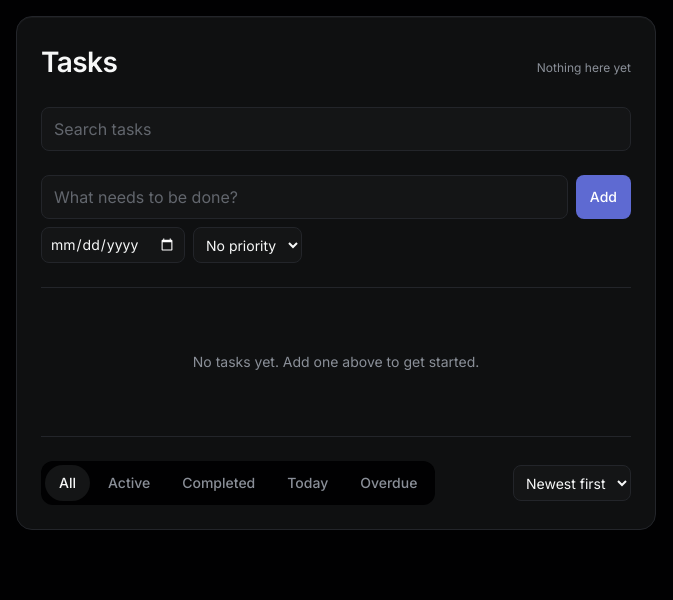
Test: todo app › filters tasks by active and completed
Type "Task A" into the field named "New task". click: (304, 197)
box: [41,175,568,219]
Click the button "Add". click: (603, 197)
box: [576,175,631,219]
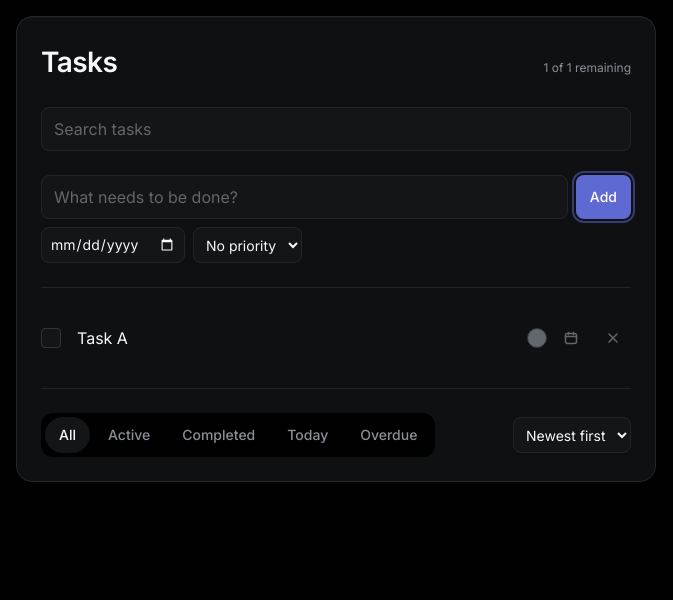
Type "Task B" into the field named "New task". click: (304, 197)
box: [41,175,568,219]
Click the button "Add". click: (603, 197)
box: [576,175,631,219]
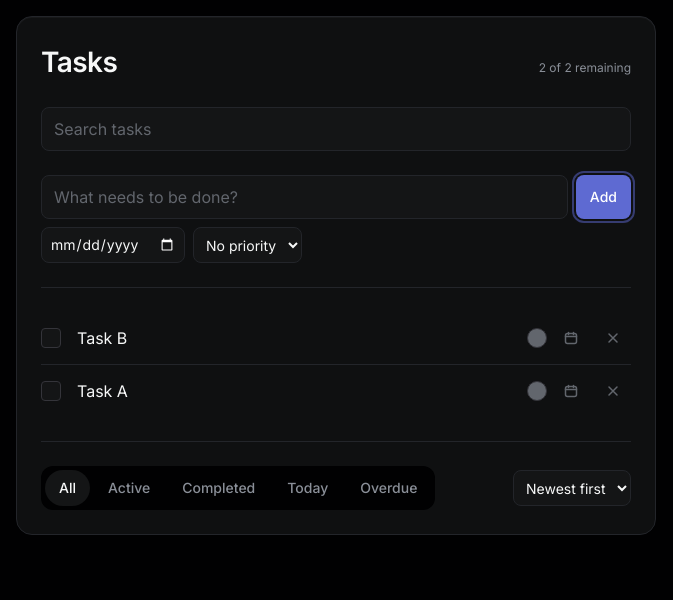
Click the checkbox named "Mark \"Task B\" as done". click: (51, 338)
box: [41,328,61,348]
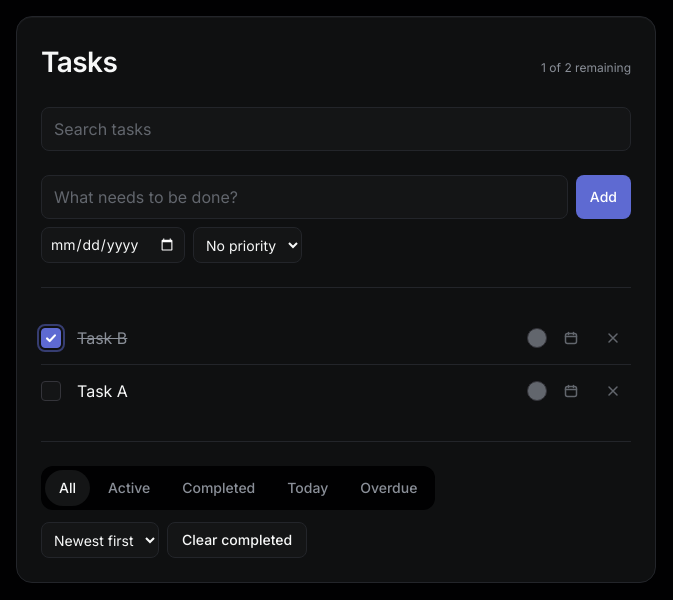
Click the button "Active". click: (129, 488)
box: [94,470,164,506]
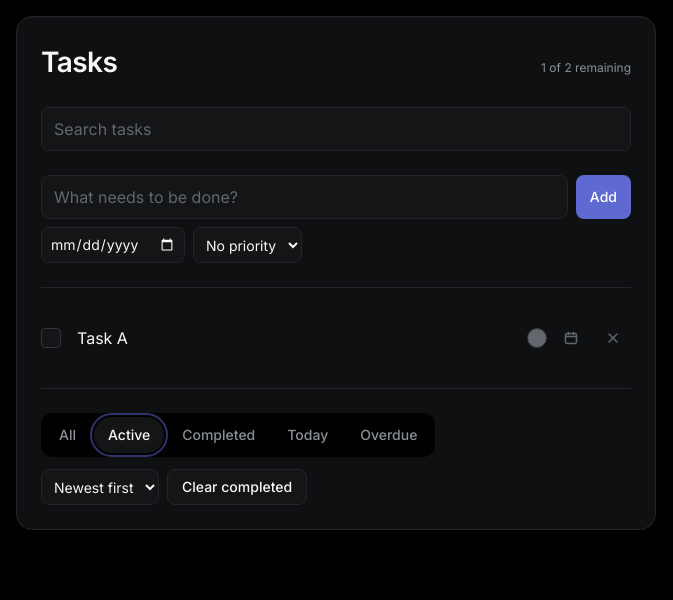
Expected: the button "Task A" is shown, [69,320,519,356]
Expected: the button "Task B" is gone
Click the button "Completed". click: (219, 435)
box: [168,417,269,453]
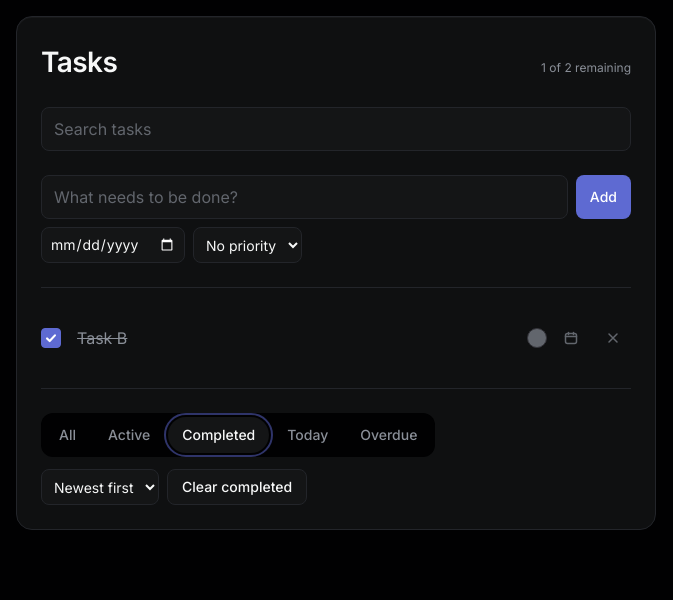
Expected: the button "Task B" is shown, [69,320,519,356]
Expected: the button "Task A" is gone
Click the button "All". click: (68, 435)
box: [45,417,90,453]
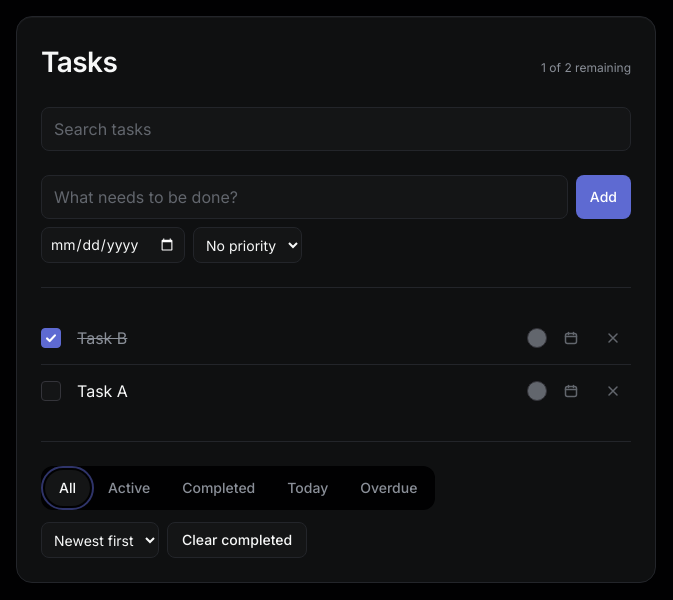
Expected: the button "Task B" is shown, [69,320,519,356]
Expected: the button "Task A" is shown, [69,373,519,409]
